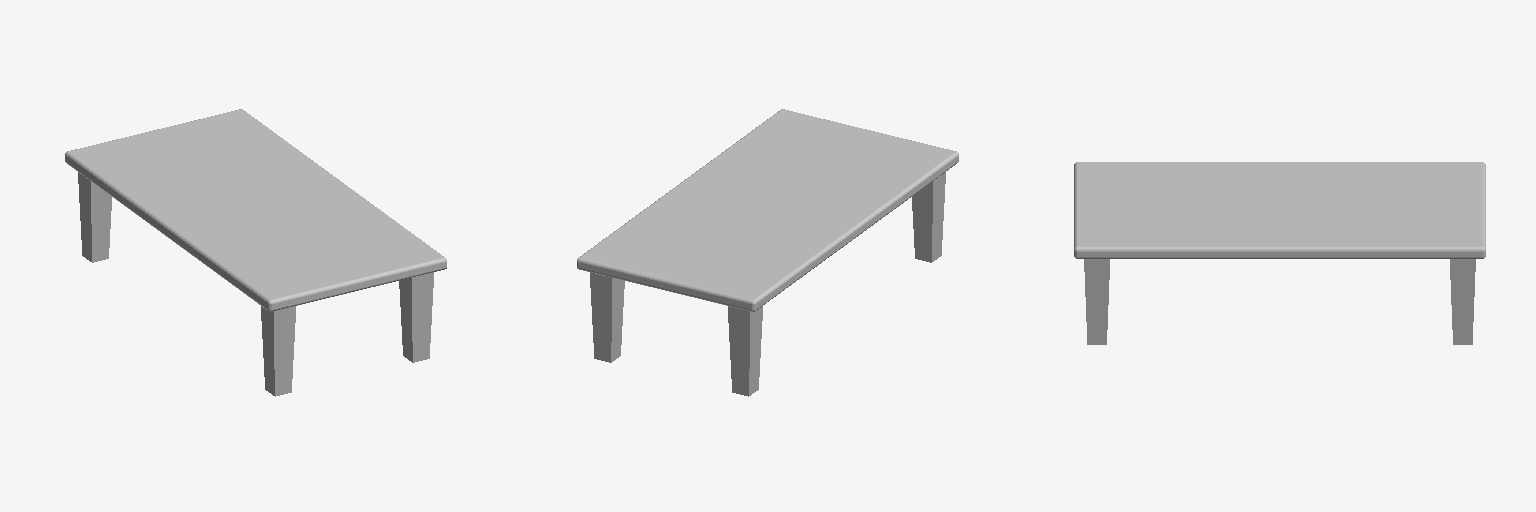
The model's file is CoffeeTable1.obj.
3 views of the same model, side by side, from view 1: azimuth 30°, elevation 25°; view 2: azimuth 150°, elevation 25°; view 3: azimuth 270°, elevation 25° (orthographic).
Visible parts, largest first — view 1: Cube_Cube, Cube.001_Cube.001; view 2: Cube_Cube, Cube.001_Cube.001; view 3: Cube_Cube, Cube.001_Cube.001.
Part boxes in pixels (bbox=[...]): Cube_Cube: bbox=[65, 109, 446, 311]; Cube.001_Cube.001: bbox=[78, 172, 433, 396]; Cube_Cube: bbox=[577, 109, 958, 311]; Cube.001_Cube.001: bbox=[590, 172, 945, 396]; Cube_Cube: bbox=[1074, 162, 1485, 258]; Cube.001_Cube.001: bbox=[1084, 259, 1475, 344].
Size of the model in its own units: 0.3693 by 0.202 by 0.7348.